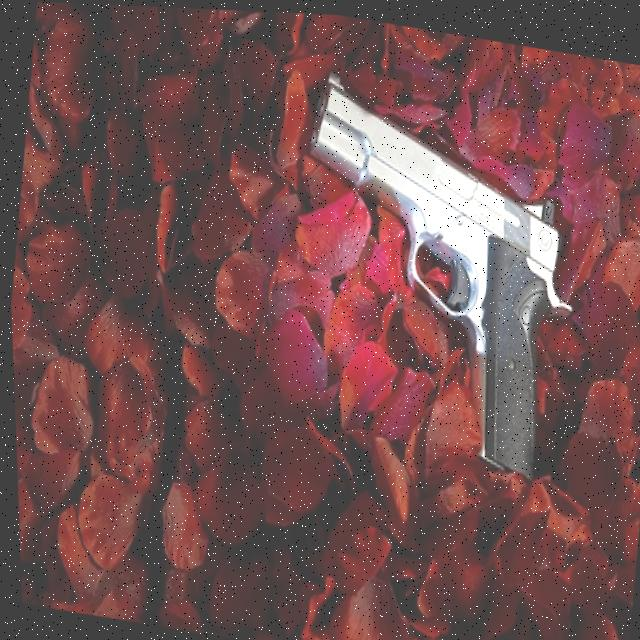pistol: (265, 61, 602, 487)
